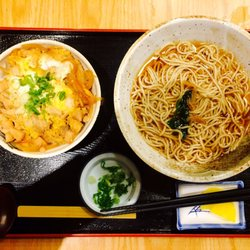Soba: (136, 38, 250, 161)
